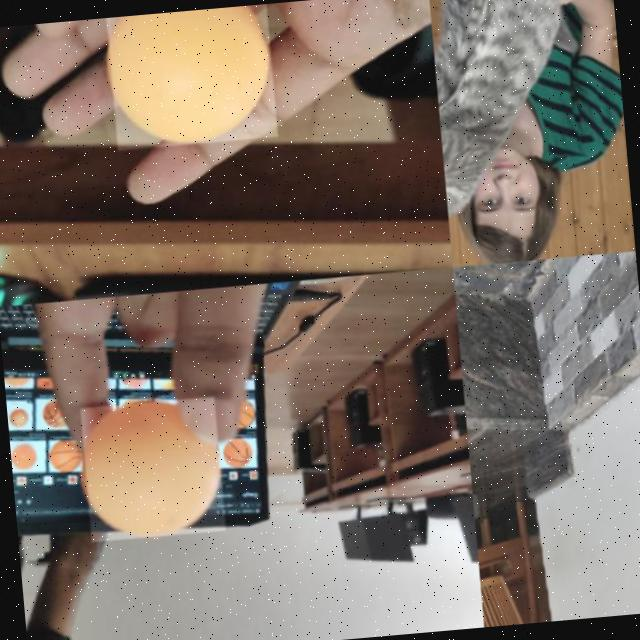ping-pong-ball: (105, 4, 278, 150), (80, 394, 225, 542)
